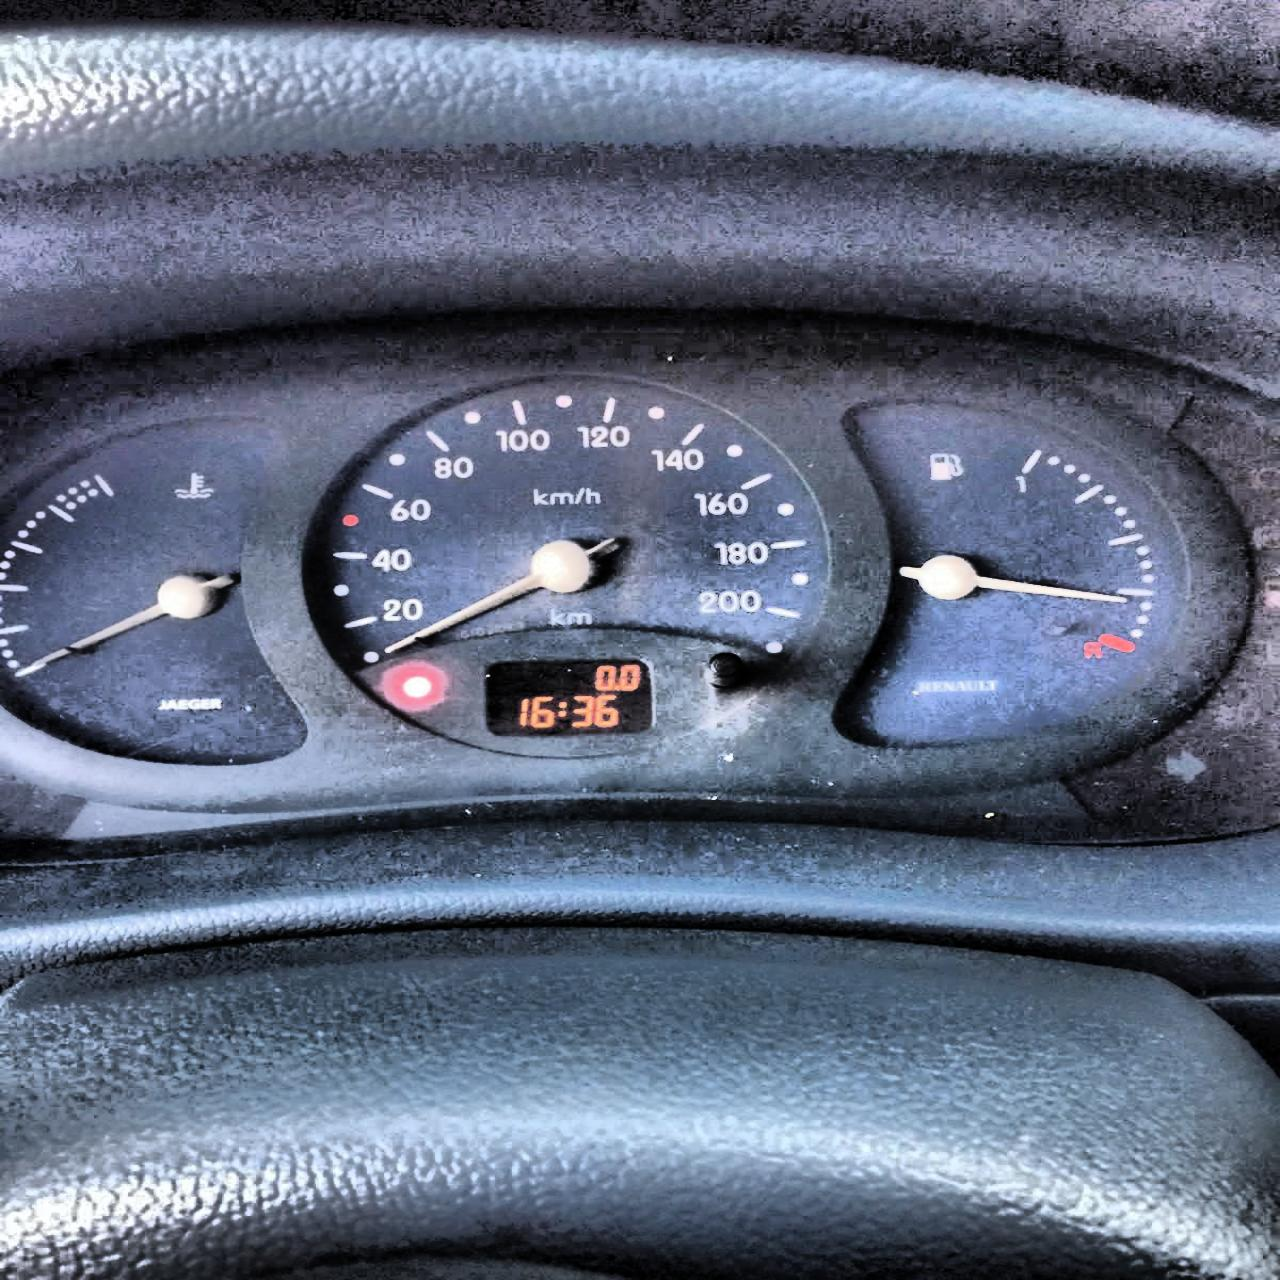-: (612, 685, 620, 689)
0: (594, 665, 613, 689), (619, 665, 638, 689)
1: (518, 696, 527, 726)
3: (571, 695, 593, 727)
6: (594, 694, 618, 727), (530, 696, 553, 727)
X: (557, 701, 566, 717)
odometer: (481, 655, 658, 738)
